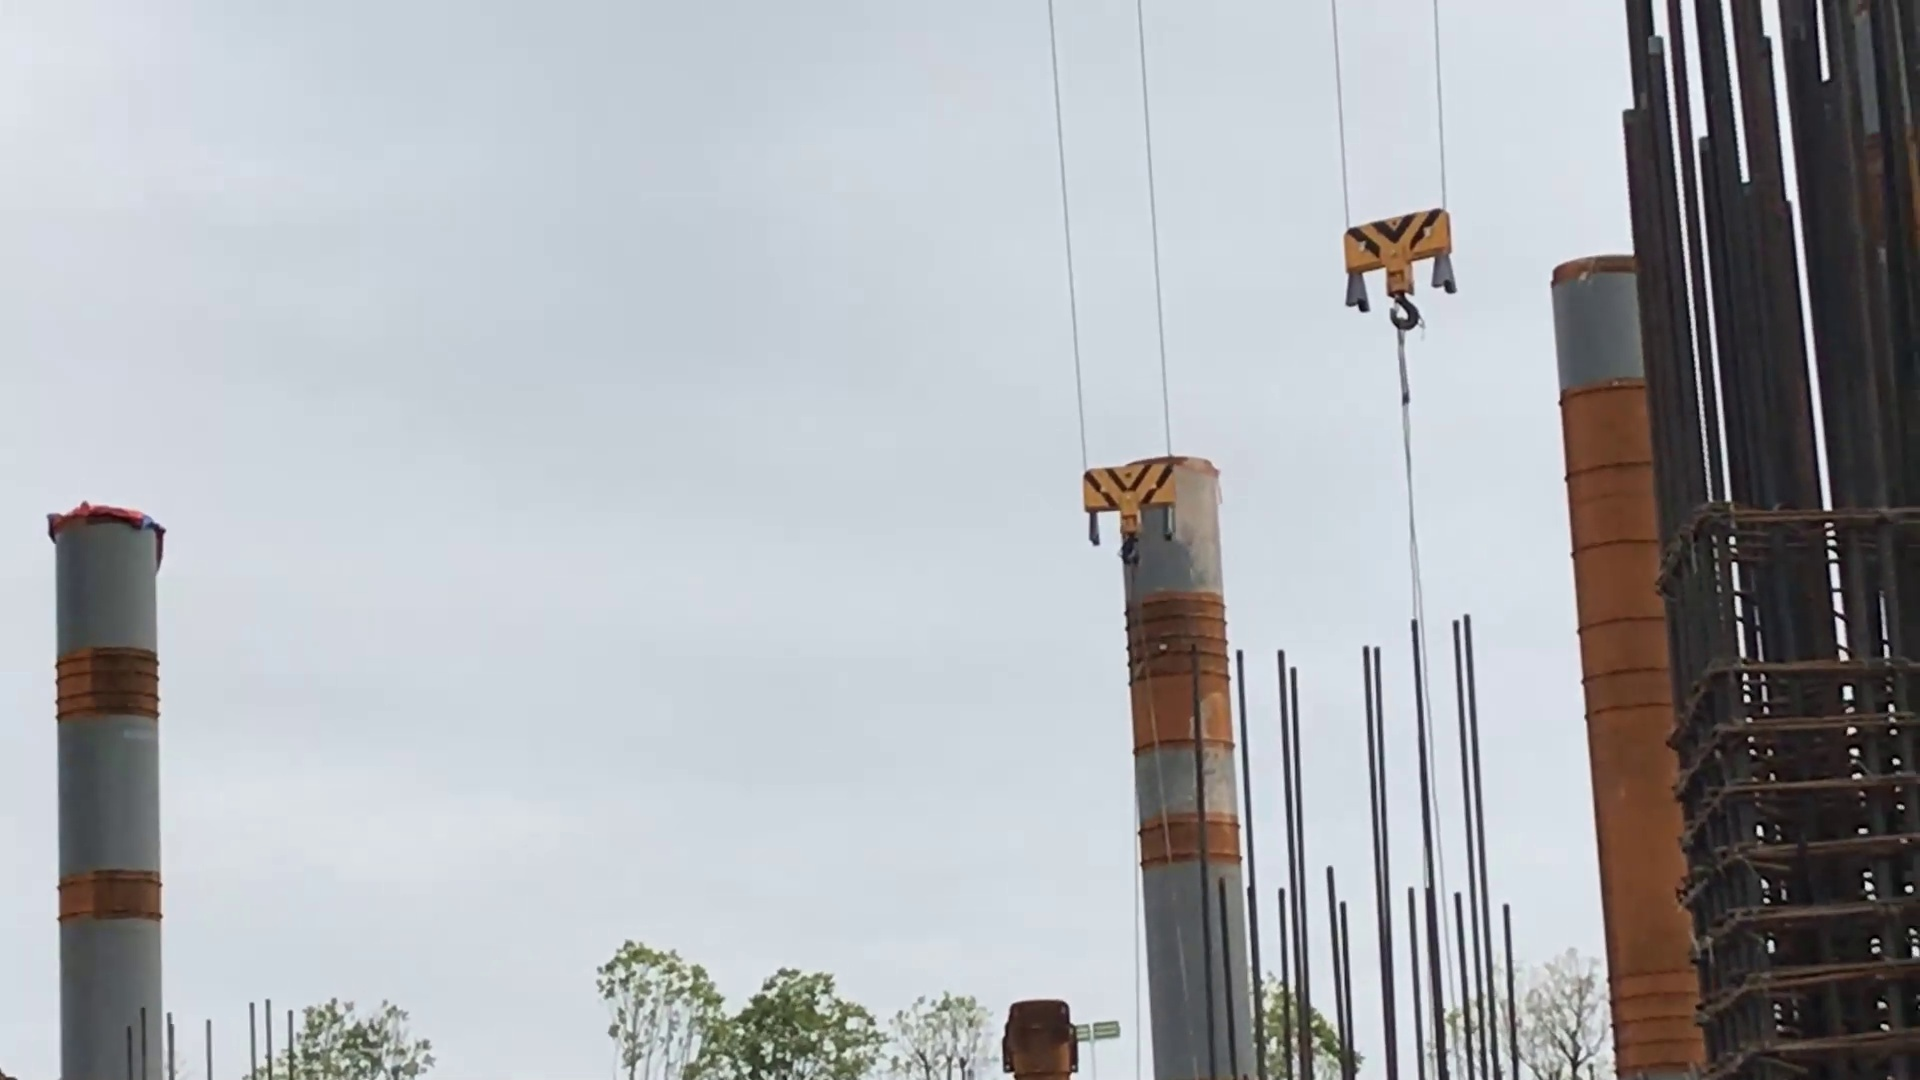hook: (1340, 206, 1458, 334), (1077, 456, 1178, 568)
